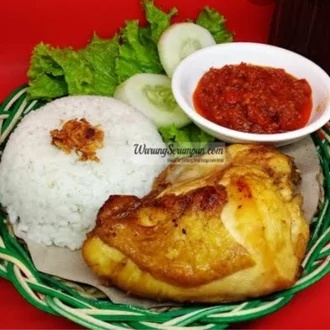ayam_goreng: (68, 139, 328, 305)
